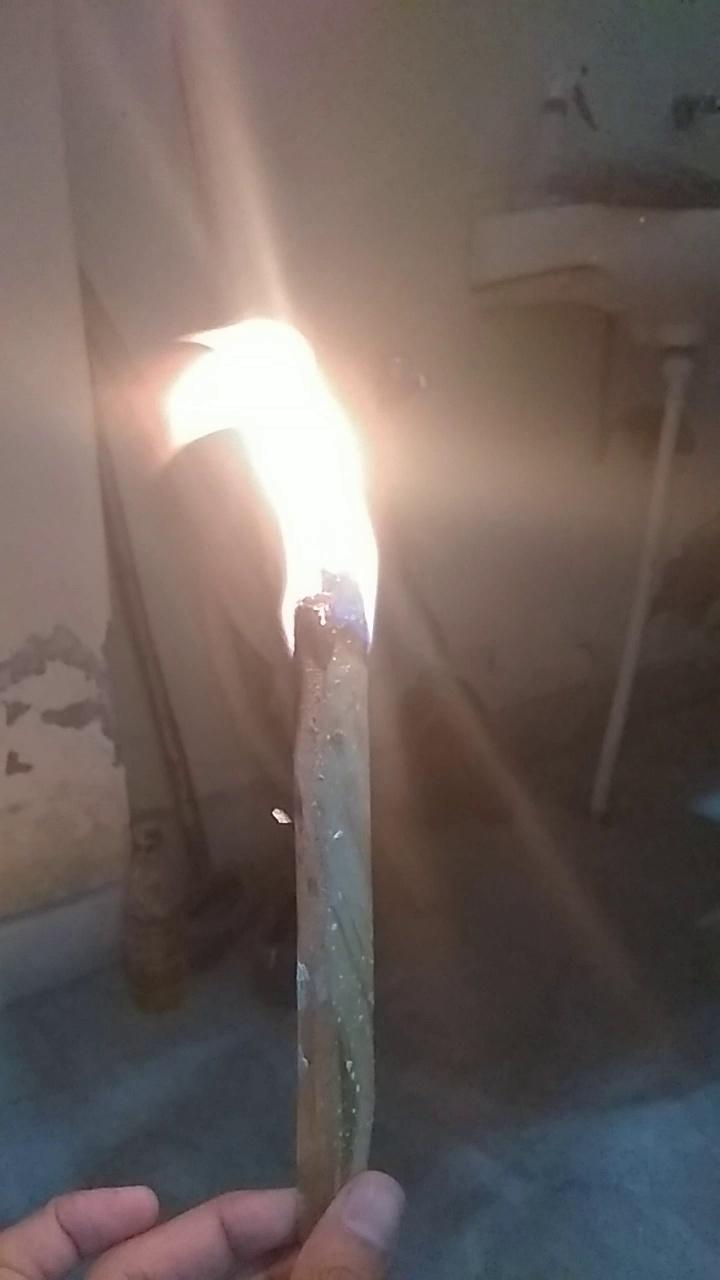fire: (172, 322, 403, 678)
